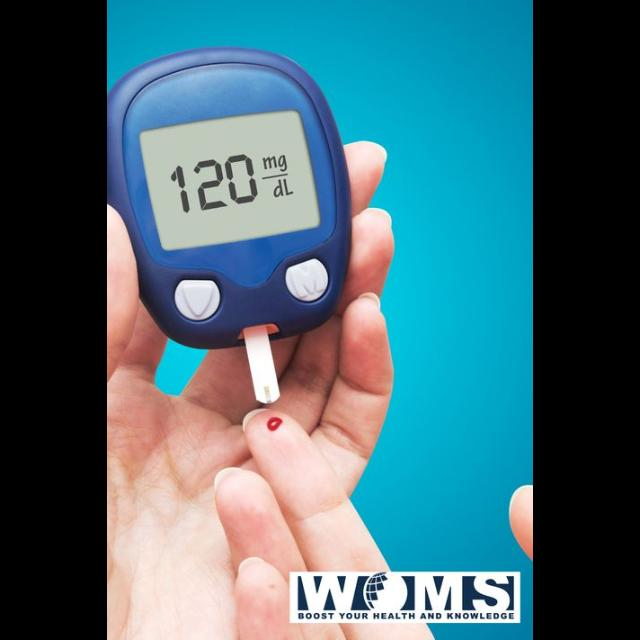Glucose-Meter: (108, 48, 351, 402)
